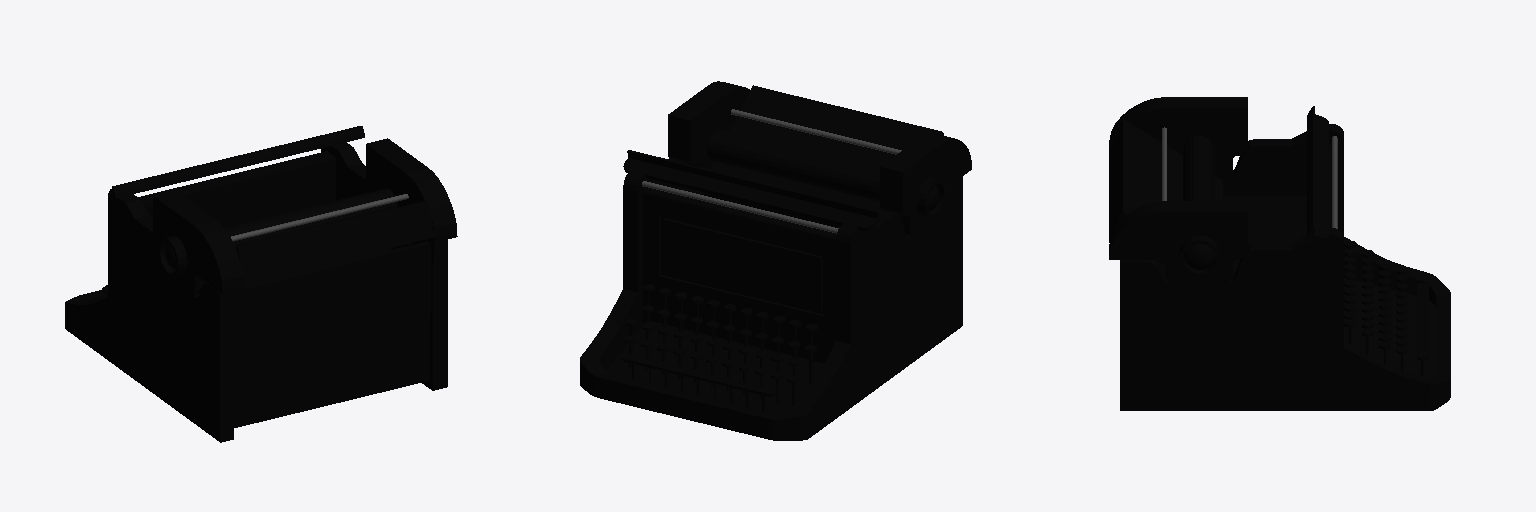
File: SM_Typewriter_001.obj
The picture shows the model from 3 angles: view 1: azimuth 30°, elevation 25°; view 2: azimuth 150°, elevation 25°; view 3: azimuth 270°, elevation 25°; orthographic projection.
Visible parts, largest first — view 1: pCylinder142; view 2: pCylinder142; view 3: pCylinder142.
Boxes of the visible parts, x1,y1,x2,y2 form: pCylinder142: [65, 126, 457, 442]; pCylinder142: [580, 81, 971, 440]; pCylinder142: [1109, 97, 1450, 410].
Bounding box in the file's own units: 31.53 × 23.72 × 36.33.